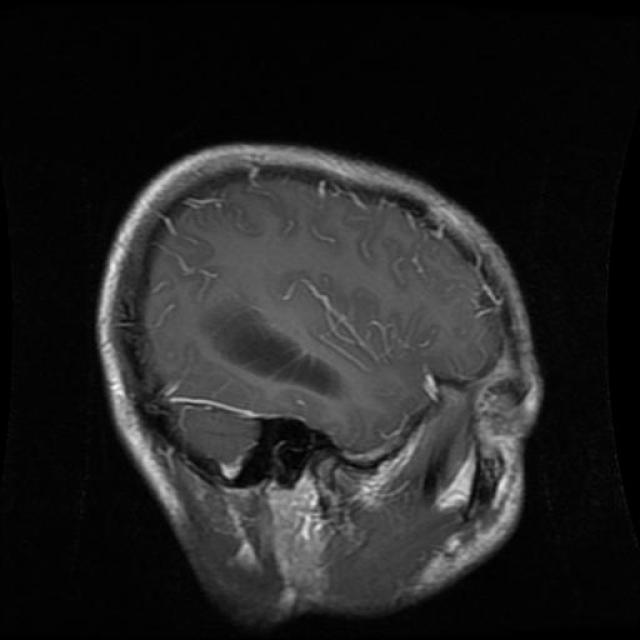glioma: (198, 281, 352, 405)
